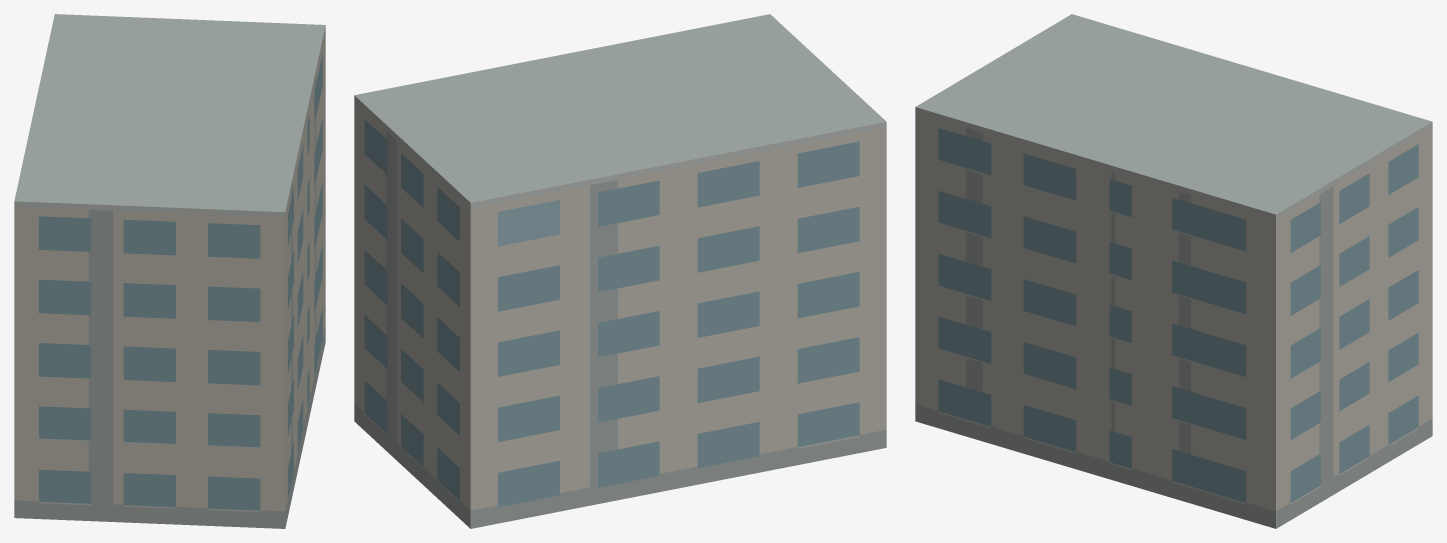
The model's file is survey-upis-32622296.glb.
3 views of the same model, side by side, from view 1: azimuth 30°, elevation 25°; view 2: azimuth 150°, elevation 25°; view 3: azimuth 270°, elevation 25° (orthographic). The views are drawn at different scales.
Visible parts, largest first — view 1: survey-upis-32622296.tmp; view 2: survey-upis-32622296.tmp; view 3: survey-upis-32622296.tmp.
Part boxes in pixels (box(x1,y1,x2,y2)): survey-upis-32622296.tmp: box(14, 14, 325, 528); survey-upis-32622296.tmp: box(354, 14, 886, 528); survey-upis-32622296.tmp: box(915, 14, 1432, 528).
Size of the model in its own units: 19.17 by 14 by 20.9.
